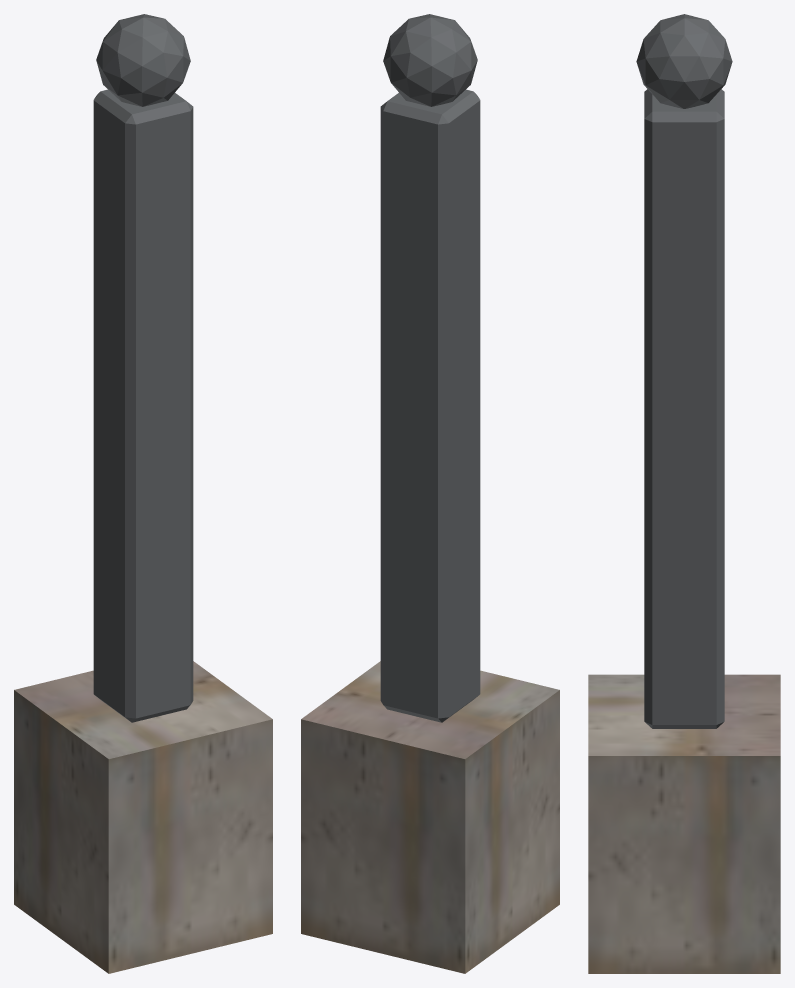
Rendered from fence_post.glb.
The picture shows the model from 3 angles, left to right: view 1: azimuth 30°, elevation 25°; view 2: azimuth 150°, elevation 25°; view 3: azimuth 270°, elevation 25°; orthographic projection.
Visible parts, largest first — view 1: fence_post_iron, fence_post_plinth; view 2: fence_post_iron, fence_post_plinth; view 3: fence_post_iron, fence_post_plinth.
Part boxes in pixels (x1,y1,x2,y2): fence_post_iron: (93,14,193,722); fence_post_plinth: (14,661,272,973); fence_post_iron: (380,14,480,722); fence_post_plinth: (301,661,559,973); fence_post_iron: (636,14,732,728); fence_post_plinth: (588,674,780,973).
Size of the model in its own units: 0.24 by 1.26 by 0.24.
2 materials, 1 textured.
